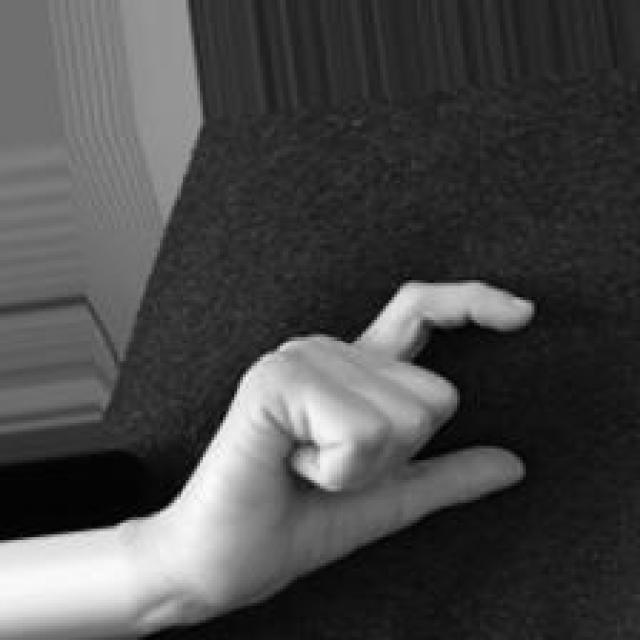C: (192, 272, 541, 624)
